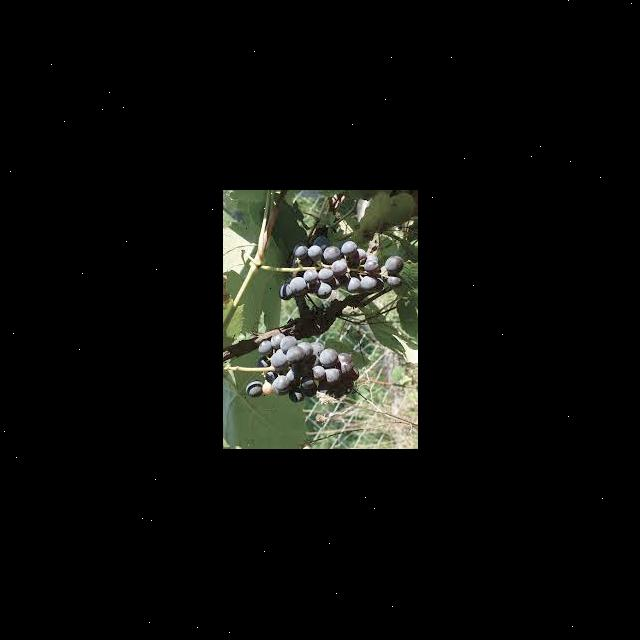grape: (278, 237, 402, 300), (250, 333, 358, 402)
